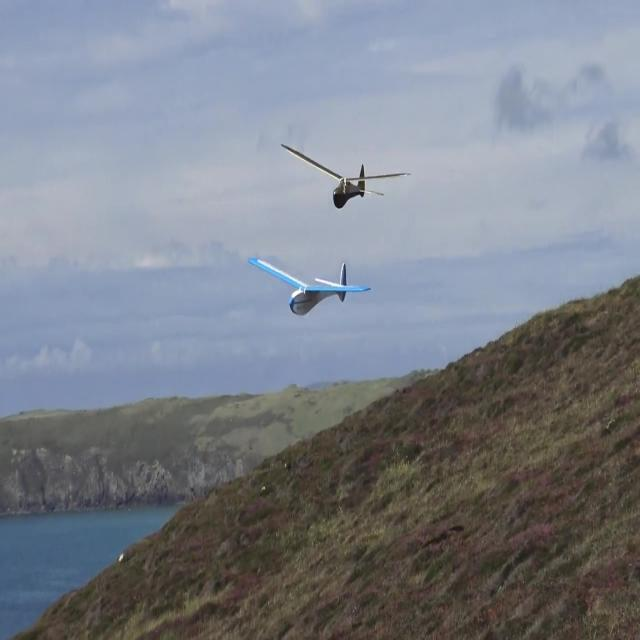iha: (280, 256, 340, 316)
